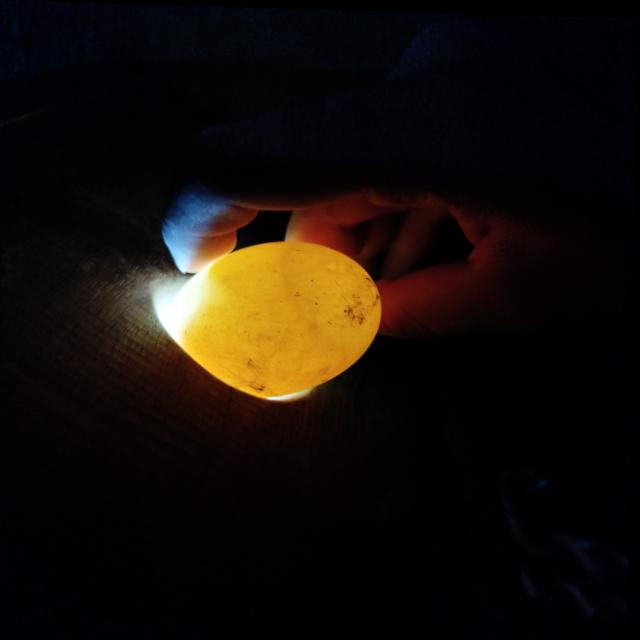Camara de Ar: (281, 239, 383, 353)
